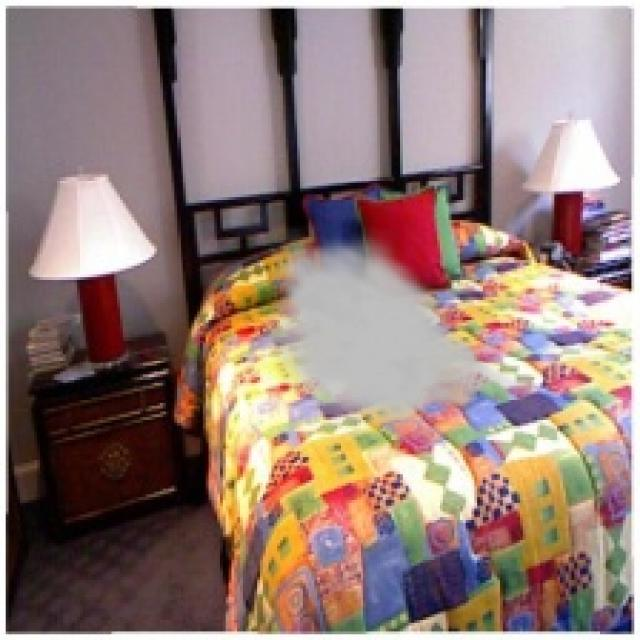smoke: (260, 226, 537, 434)
